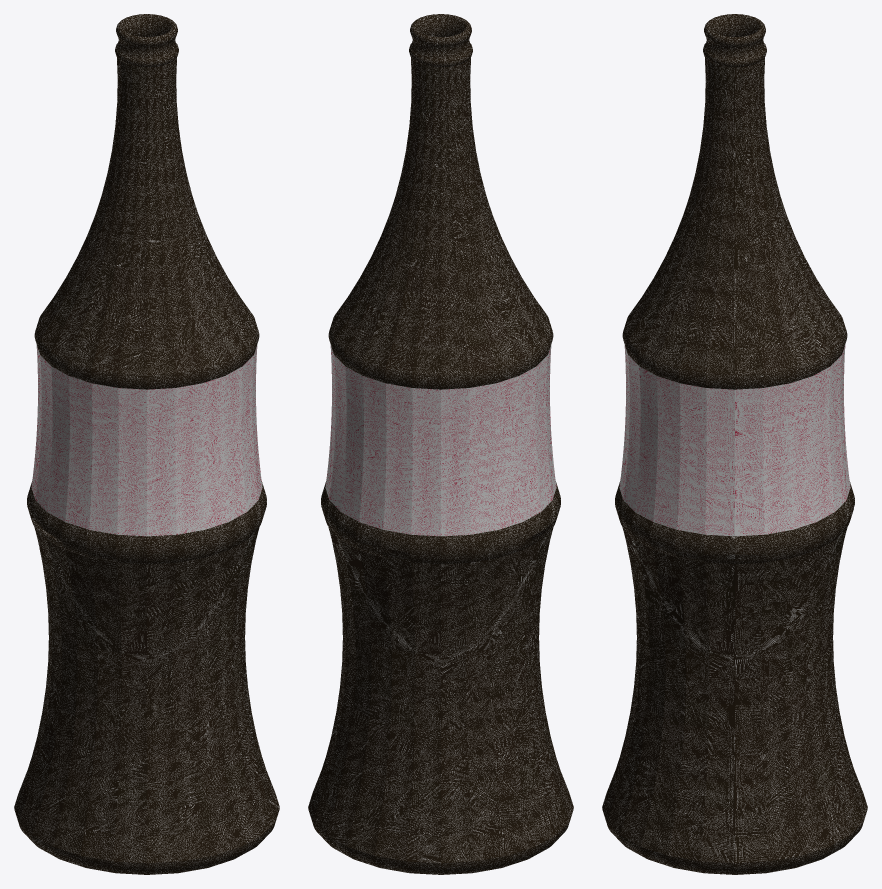
3 renders of one model, left to right at view 1: azimuth 30°, elevation 25°; view 2: azimuth 150°, elevation 25°; view 3: azimuth 270°, elevation 25°, orthographic.
Parts seen in each view (by area): view 1: mesh1_mesh1-geometry; view 2: mesh1_mesh1-geometry; view 3: mesh1_mesh1-geometry.
Part boxes in pixels (x1,y1,x2,y2): mesh1_mesh1-geometry: (14,14,279,874); mesh1_mesh1-geometry: (308,14,573,874); mesh1_mesh1-geometry: (602,14,867,874).
Size of the model in its own units: 0.2768 by 0.9202 by 0.2768.
